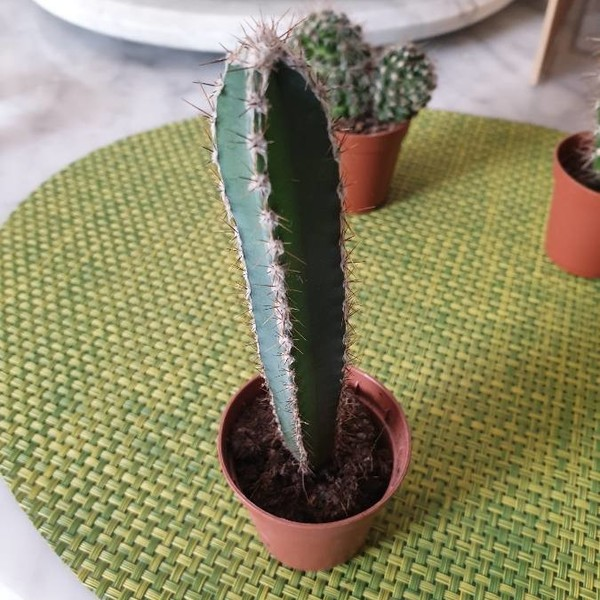obstacle: (165, 40, 430, 572), (294, 2, 438, 204)
